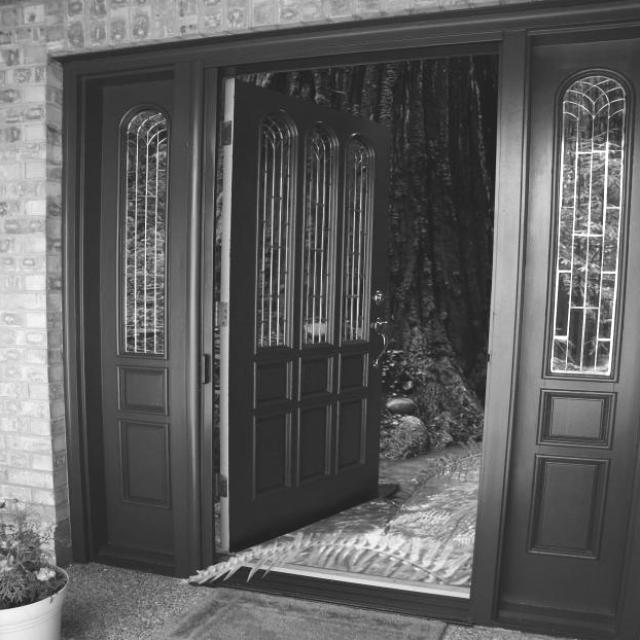door: (223, 78, 389, 552)
